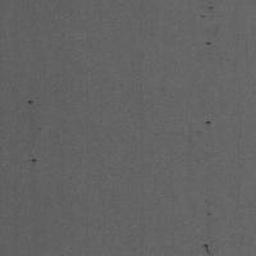Inclusion: (201, 243, 214, 256), (31, 157, 37, 166), (27, 99, 35, 105), (205, 41, 212, 47), (36, 127, 44, 132)
